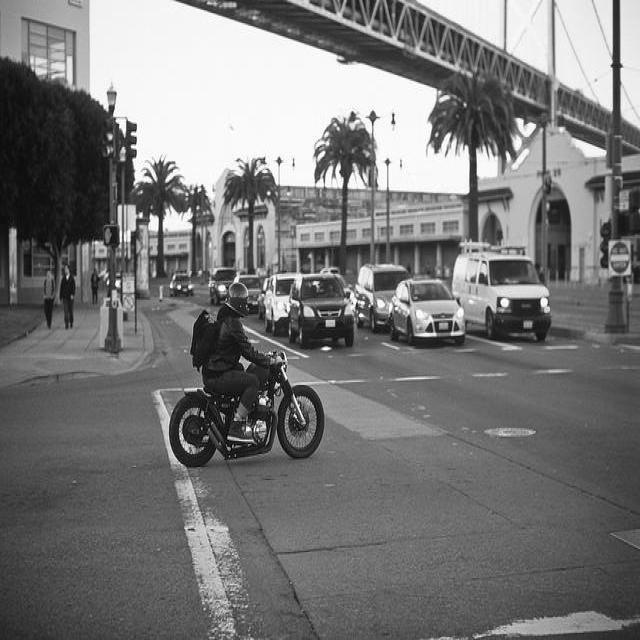vehicle: (169, 350, 326, 471), (452, 242, 550, 350), (286, 270, 354, 354), (389, 274, 465, 348), (355, 262, 413, 332), (264, 273, 296, 337), (234, 275, 262, 315), (209, 267, 237, 305), (169, 272, 195, 296)
